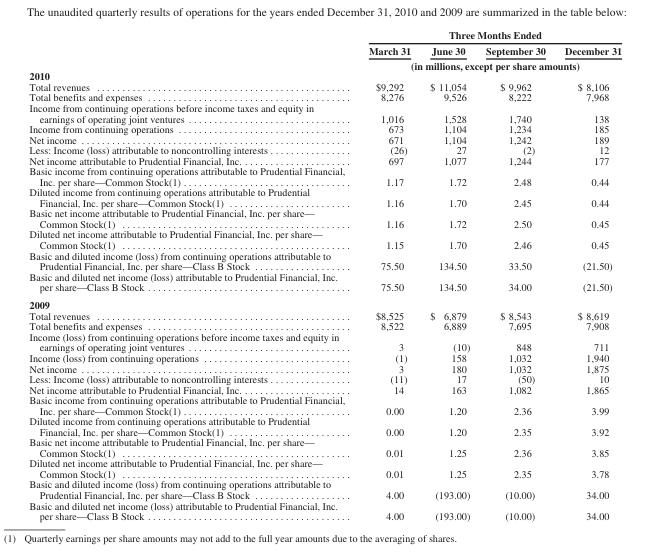table: (28, 28, 621, 521)
table column: (28, 28, 356, 521), (477, 28, 554, 521), (554, 28, 621, 521), (356, 28, 419, 521), (419, 28, 477, 521)
table column header: (28, 28, 621, 70)
table projected row header: (28, 295, 621, 310), (28, 70, 621, 81)
table row: (28, 270, 621, 295), (28, 499, 621, 521), (28, 102, 621, 123), (28, 165, 621, 186), (28, 186, 621, 207), (28, 207, 621, 228), (28, 228, 621, 249), (28, 249, 621, 270), (28, 331, 621, 352), (28, 394, 621, 415), (28, 415, 621, 436), (28, 436, 621, 457), (28, 457, 621, 478), (28, 478, 621, 499), (28, 42, 621, 57), (28, 295, 621, 310), (28, 28, 621, 42), (28, 57, 621, 70), (28, 70, 621, 81), (28, 91, 621, 102), (28, 133, 621, 144), (28, 154, 621, 165), (28, 320, 621, 331), (28, 362, 621, 373), (28, 383, 621, 394), (28, 81, 621, 91), (28, 123, 621, 133), (28, 144, 621, 154), (28, 310, 621, 320), (28, 352, 621, 362), (28, 373, 621, 383)
table spanning cell: (356, 28, 621, 42), (356, 57, 621, 70)
